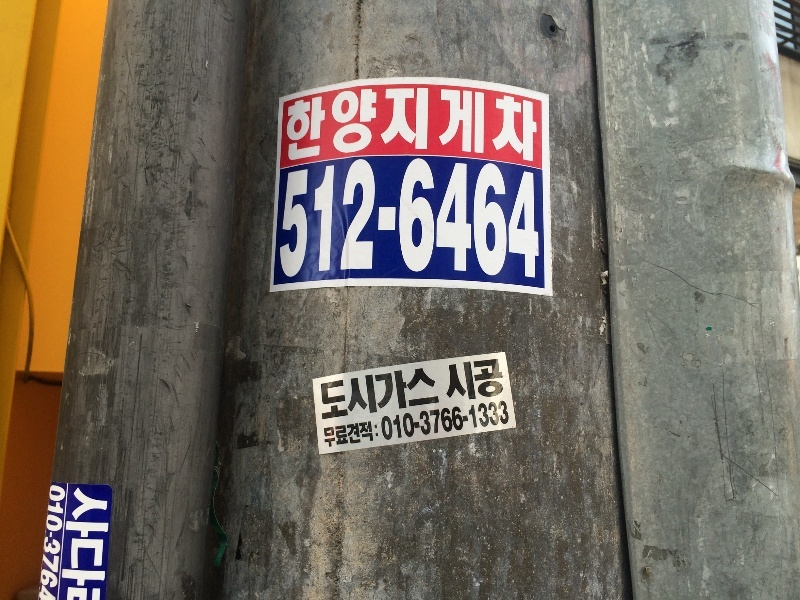text: (529, 156, 545, 294), (401, 156, 416, 294), (417, 156, 432, 294), (433, 156, 448, 294), (449, 156, 464, 294), (465, 156, 480, 294), (481, 156, 496, 294), (497, 156, 512, 294), (513, 156, 528, 294), (289, 157, 304, 284), (305, 157, 320, 284), (321, 157, 336, 284), (337, 157, 352, 284), (353, 157, 368, 284), (274, 157, 288, 284), (81, 487, 96, 590), (97, 487, 111, 590), (289, 83, 304, 170), (305, 83, 320, 170), (321, 83, 336, 170), (337, 83, 352, 170), (353, 83, 368, 170), (369, 83, 384, 170), (385, 83, 400, 170), (401, 83, 416, 170), (417, 83, 432, 170), (433, 83, 448, 170), (449, 83, 464, 170), (465, 83, 480, 170), (481, 83, 496, 170), (497, 83, 512, 170), (513, 83, 528, 170), (369, 157, 378, 284), (69, 487, 80, 590), (529, 83, 542, 170), (321, 362, 336, 425), (337, 362, 352, 425), (353, 362, 368, 425), (369, 362, 384, 425), (385, 362, 400, 425), (401, 362, 416, 425), (417, 362, 432, 425), (433, 362, 445, 425), (49, 537, 61, 600), (449, 354, 464, 402), (465, 354, 480, 402), (481, 354, 496, 402), (50, 484, 64, 534), (281, 83, 288, 170), (497, 354, 509, 402), (385, 201, 398, 242), (321, 416, 336, 451), (337, 416, 352, 451), (353, 416, 368, 451), (401, 411, 417, 443), (481, 400, 496, 434), (497, 400, 512, 434), (385, 411, 400, 443), (433, 405, 448, 437), (449, 405, 464, 437), (467, 400, 480, 434), (369, 416, 381, 451), (419, 405, 432, 437), (397, 156, 400, 294), (376, 201, 384, 242), (315, 362, 320, 425), (375, 411, 384, 443), (44, 537, 48, 600), (443, 354, 448, 402), (465, 405, 473, 431), (49, 532, 64, 539), (460, 405, 464, 431), (318, 416, 320, 451), (65, 484, 66, 534), (417, 421, 421, 430), (465, 405, 466, 437), (414, 421, 416, 430)
